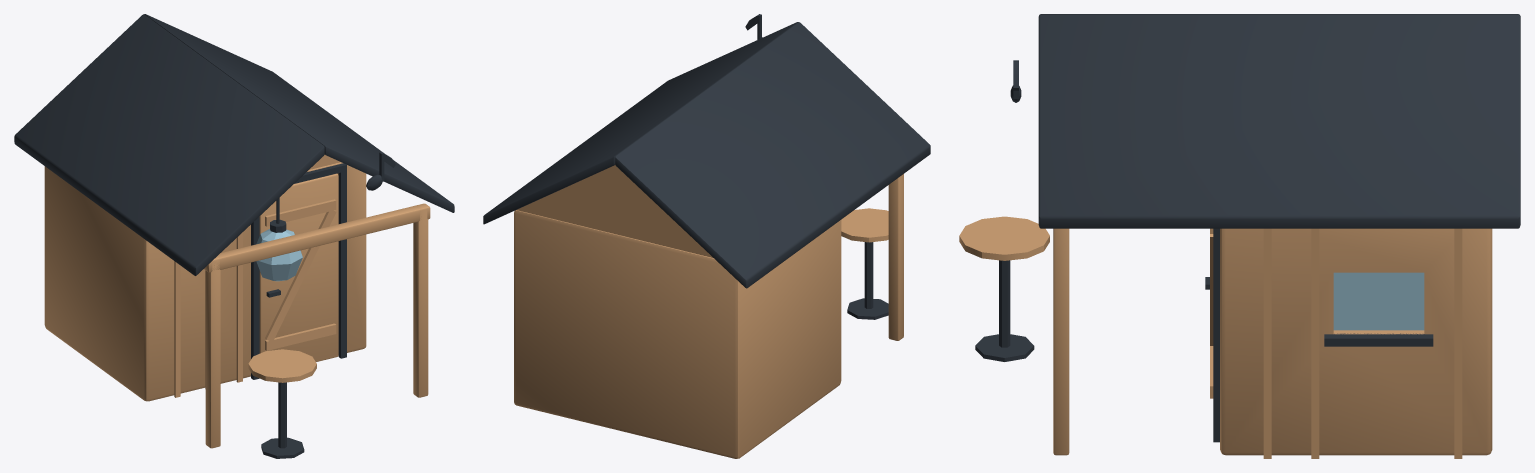
The model's file is ENV_PARTY_SHED_A_v001.glb.
The picture shows the model from 3 angles, left to right: view 1: azimuth 30°, elevation 25°; view 2: azimuth 150°, elevation 25°; view 3: azimuth 270°, elevation 25°; orthographic projection. The views are drawn at different scales.
Parts seen in each view (by area): view 1: ENV_PARTY_SHED_A_BODY, ENV_PARTY_SHED_A_DOOR, ENV_PARTY_SHED_A_LANTERN_FACETS_B, ENV_PARTY_SHED_A_LANTERN_FACETS_C; view 2: ENV_PARTY_SHED_A_BODY; view 3: ENV_PARTY_SHED_A_BODY, ENV_PARTY_SHED_A_DOOR.
Boxes of the visible parts, x1,y1,x2,y2 form: ENV_PARTY_SHED_A_BODY: [14, 14, 454, 458]; ENV_PARTY_SHED_A_DOOR: [259, 173, 338, 361]; ENV_PARTY_SHED_A_LANTERN_FACETS_B: [256, 229, 291, 280]; ENV_PARTY_SHED_A_LANTERN_FACETS_C: [271, 231, 302, 281]; ENV_PARTY_SHED_A_BODY: [483, 22, 930, 458]; ENV_PARTY_SHED_A_BODY: [959, 14, 1520, 458]; ENV_PARTY_SHED_A_DOOR: [1205, 228, 1213, 398].
Size of the model in its own units: 3.5 by 3.61 by 4.95.
